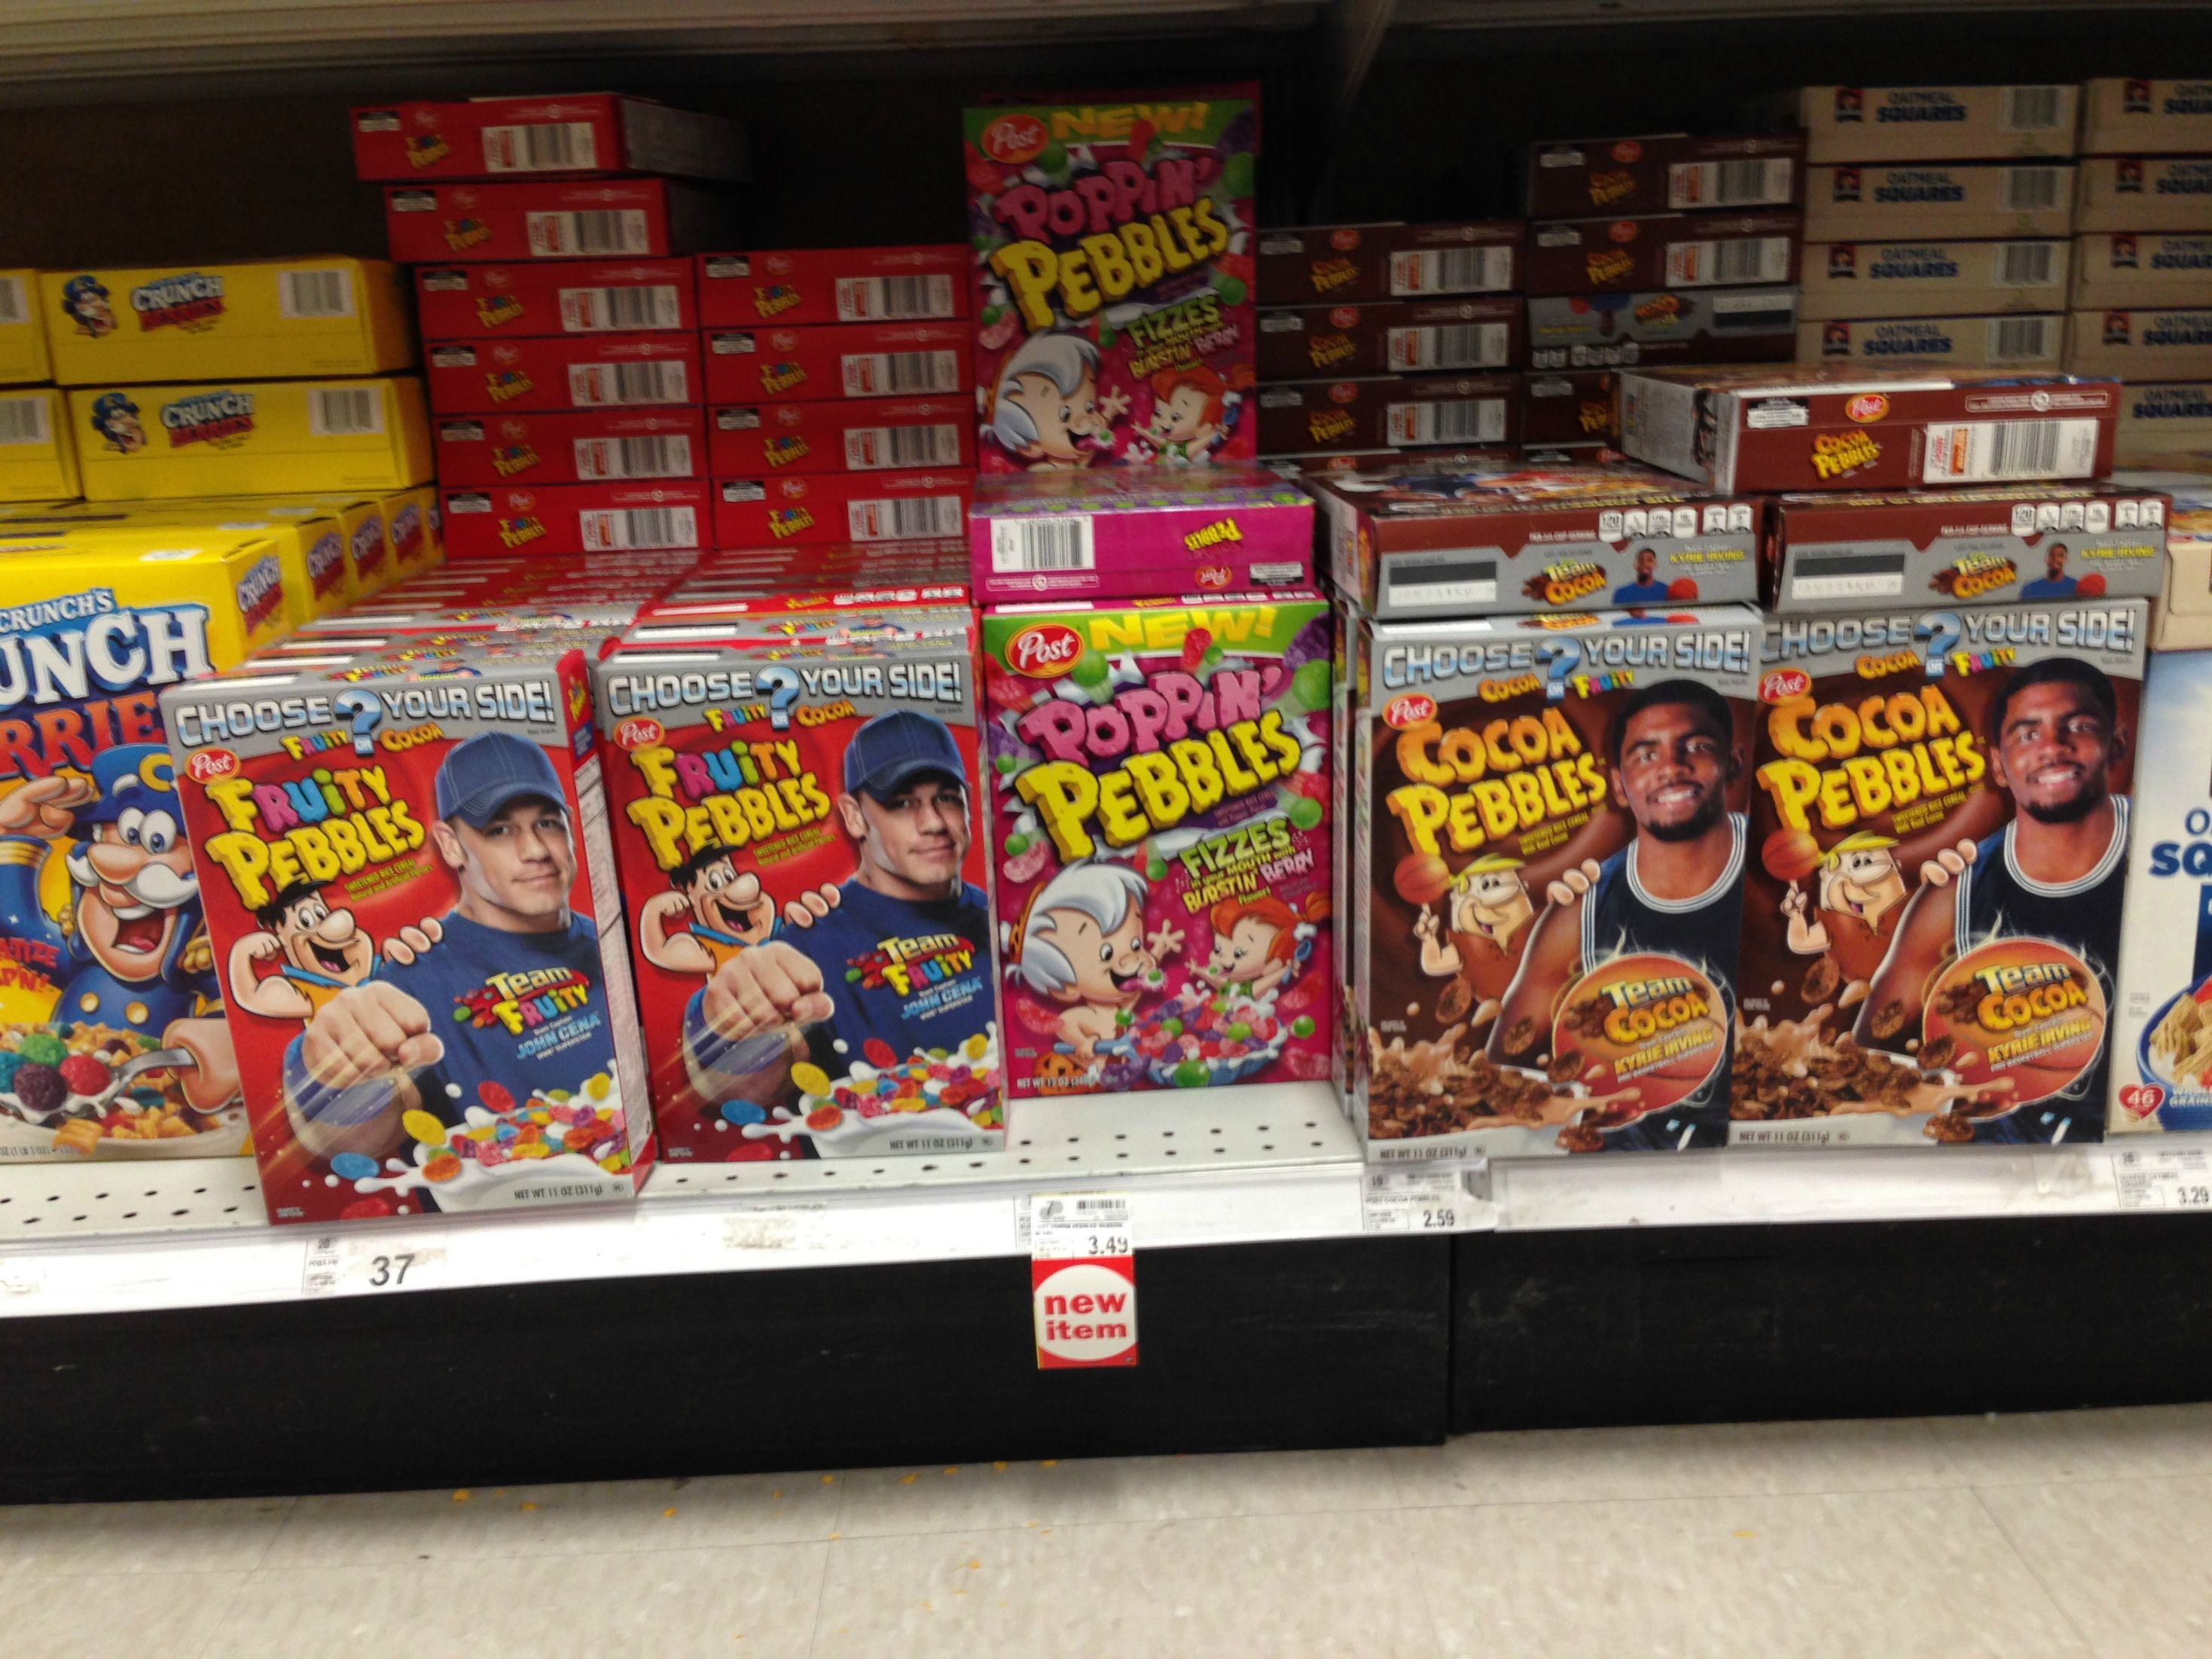cereal: (594, 671, 997, 1155), (1377, 634, 1731, 1148), (1773, 634, 2104, 1154), (256, 680, 560, 1232), (987, 619, 1335, 1091), (0, 554, 239, 1159), (980, 113, 1253, 479)
